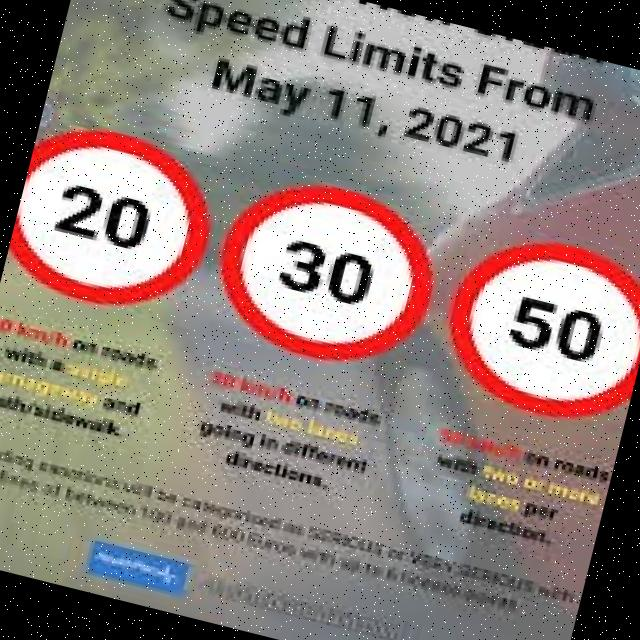speed_limit_20: (0, 108, 235, 335)
speed_limit_30: (198, 162, 460, 392)
speed_limit_50: (426, 195, 640, 444)
